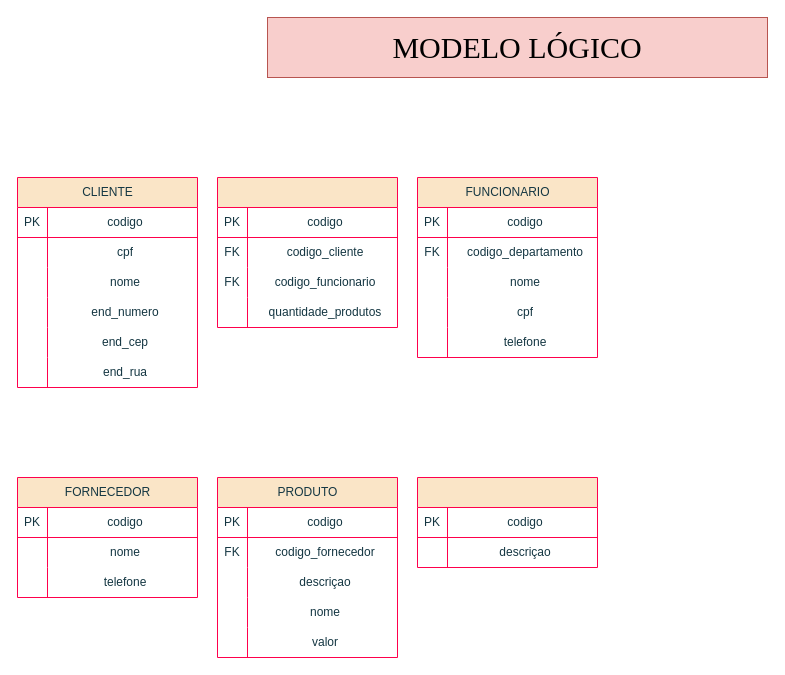
The diagram is 785 pixels wide and 675 high, and some of its shapes have lost their labels. Each missing label, with the box of its shape:
COMPRA: (216, 176, 398, 328)
DEPARTAMENTO: (416, 476, 598, 568)
